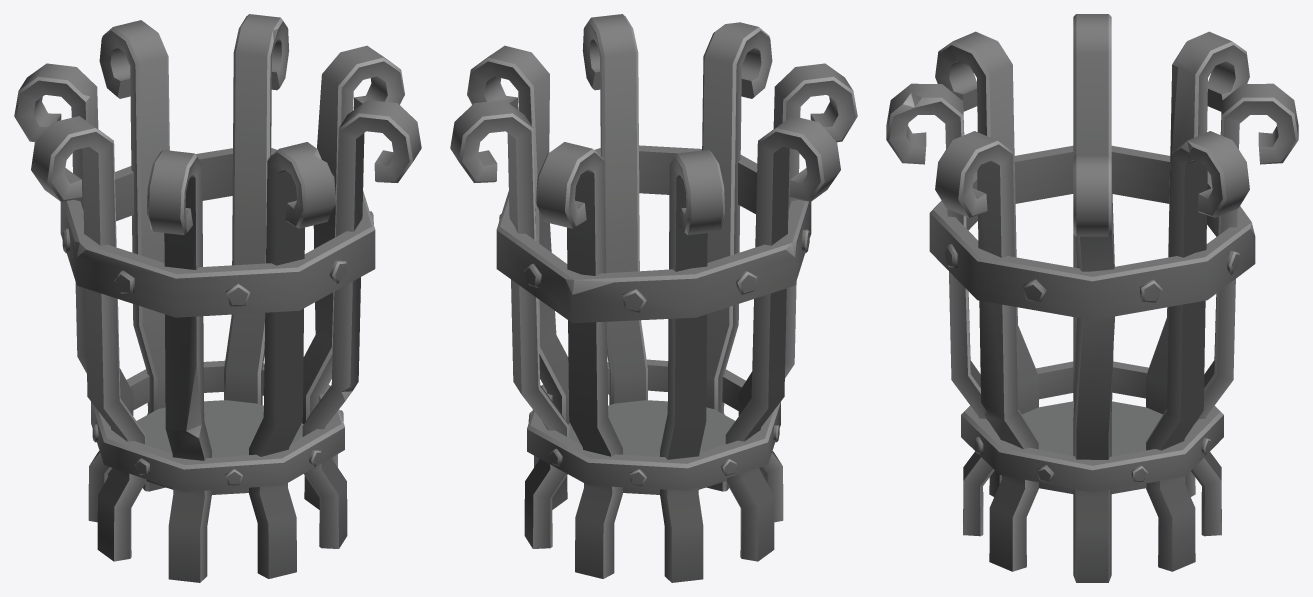
The model's file is FirePlace_1_1_B.glb.
The picture shows the model from 3 angles, left to right: view 1: azimuth 30°, elevation 25°; view 2: azimuth 150°, elevation 25°; view 3: azimuth 270°, elevation 25°; orthographic projection.
Visible parts, largest first — view 1: FirePlace_1_1_B; view 2: FirePlace_1_1_B; view 3: FirePlace_1_1_B.
Boxes of the visible parts, box(x1,y1,x2,y2) form: FirePlace_1_1_B: box(14, 14, 421, 582); FirePlace_1_1_B: box(450, 14, 857, 582); FirePlace_1_1_B: box(886, 14, 1298, 582).
Size of the model in its own units: 0.7082 by 0.8289 by 0.7082.
Materials: 1 (1 with a texture image).
